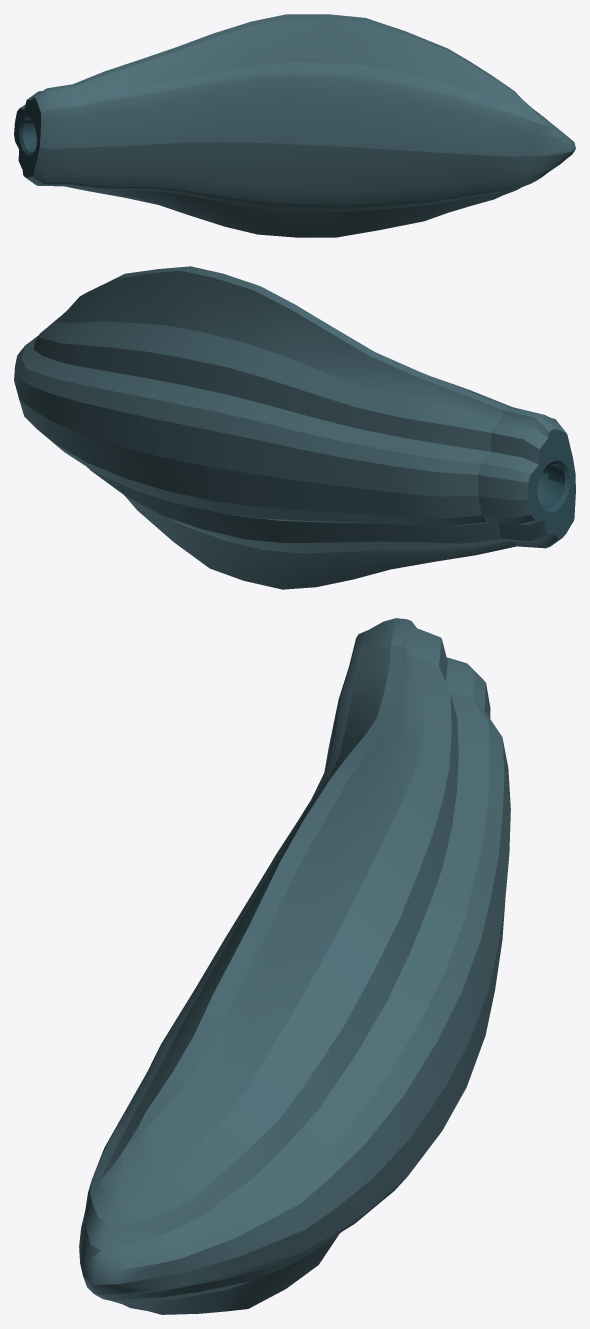
File: TrasDer.obj
3 views of the same model, one above another, from view 1: azimuth 30°, elevation 25°; view 2: azimuth 150°, elevation 25°; view 3: azimuth 270°, elevation 25° (orthographic). The views are drawn at different scales.
Parts seen in each view (by area): view 1: Mosasaurs:polySurface3 Mosasaurs:Mesh; view 2: Mosasaurs:polySurface3 Mosasaurs:Mesh; view 3: Mosasaurs:polySurface3 Mosasaurs:Mesh.
Part boxes in pixels (x1,y1,x2,y2): Mosasaurs:polySurface3 Mosasaurs:Mesh: (14,14,575,237); Mosasaurs:polySurface3 Mosasaurs:Mesh: (14,266,575,589); Mosasaurs:polySurface3 Mosasaurs:Mesh: (79,618,510,1314).
Bounding box in the file's own units: 4.82 × 2.18 × 1.91.
1 material, 1 textured.
